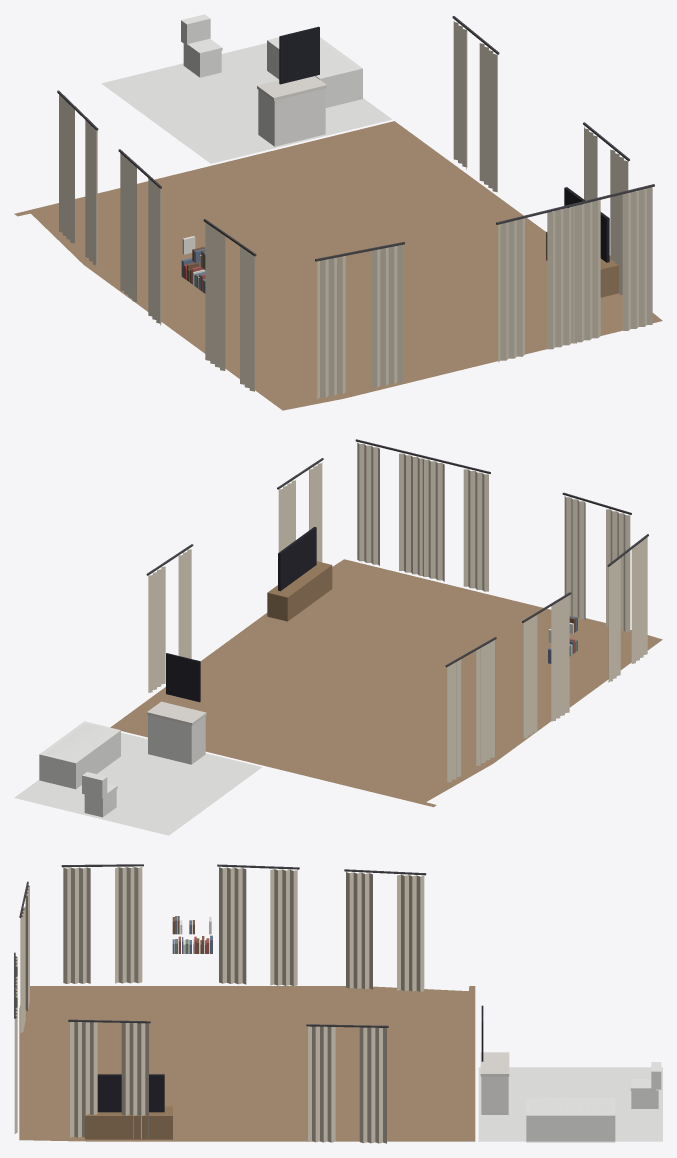
Rendered from fine-s1.glb.
3 views of the same model, one above another, from view 1: azimuth 30°, elevation 25°; view 2: azimuth 150°, elevation 25°; view 3: azimuth 270°, elevation 25° (orthographic). The views are drawn at different scales.
Visible parts, largest first — view 1: soft-s1, vanity.000, bathtub.000, toilet.000, tv-console.000; view 2: soft-s1, vanity.000, tv-console.000, bathtub.000, toilet.000; view 3: soft-s1, bathtub.000, tv-console.000, vanity.000, toilet.000.
Boxes of the visible parts, x1=… form: soft-s1: x1=14, y1=16, x2=662, y2=410; vanity.000: x1=257, y1=26, x2=326, y2=146; bathtub.000: x1=267, y1=37, x2=362, y2=107; toilet.000: x1=181, y1=14, x2=222, y2=77; tv-console.000: x1=546, y1=187, x2=618, y2=297; soft-s1: x1=14, y1=439, x2=662, y2=835; vanity.000: x1=147, y1=653, x2=206, y2=764; tv-console.000: x1=267, y1=527, x2=332, y2=621; bathtub.000: x1=39, y1=721, x2=120, y2=789; toilet.000: x1=82, y1=772, x2=117, y2=817; soft-s1: x1=14, y1=864, x2=662, y2=1143; bathtub.000: x1=526, y1=1098, x2=615, y2=1142; tv-console.000: x1=85, y1=1074, x2=172, y2=1139; vanity.000: x1=480, y1=1005, x2=509, y2=1114; toilet.000: x1=630, y1=1062, x2=661, y2=1108.
Size of the model in its own units: 7 by 2.41 by 11.82.
